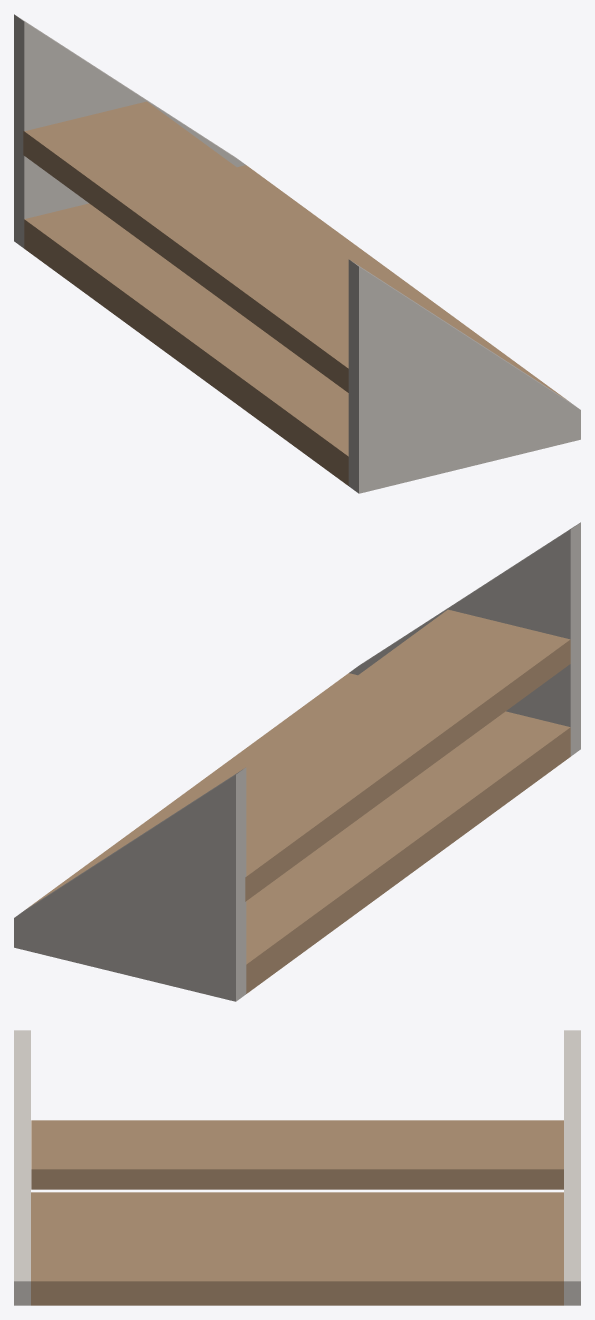
Rendered from shelf3.fbx.
3 renders of one model, top to bottom at view 1: azimuth 30°, elevation 25°; view 2: azimuth 150°, elevation 25°; view 3: azimuth 270°, elevation 25°, orthographic. The views are drawn at different scales.
Visible parts, largest first — view 1: shelf3; view 2: shelf3; view 3: shelf3.
Part boxes in pixels (x1,y1,x2,y2): shelf3: (14,14,580,493); shelf3: (14,522,580,1001); shelf3: (14,1030,580,1305).
Size of the model in its own units: 96.35 by 35.79 by 34.99.
